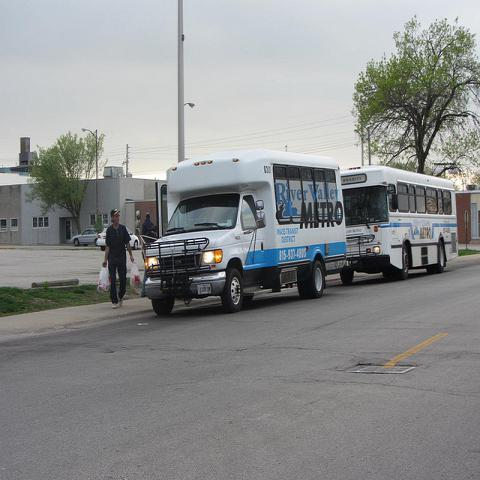bus: (142, 155, 347, 320), (338, 167, 459, 283)
car: (96, 227, 140, 251), (70, 227, 98, 247)
truck: (143, 150, 348, 318)
